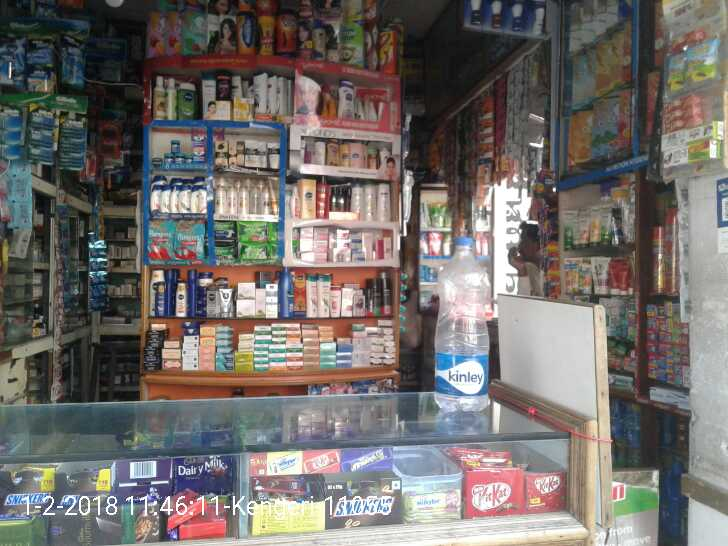beauty: (241, 137, 278, 175), (256, 182, 281, 215), (168, 181, 189, 216), (229, 180, 249, 215), (208, 182, 226, 217), (146, 185, 171, 210), (211, 133, 226, 168), (191, 184, 207, 214)
pharmacy: (159, 125, 208, 172), (173, 216, 208, 263), (146, 214, 173, 263), (231, 237, 279, 262), (235, 221, 268, 239)
